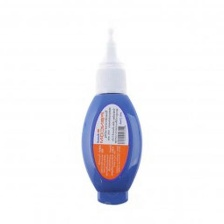correction_fluid: (80, 23, 144, 208)
